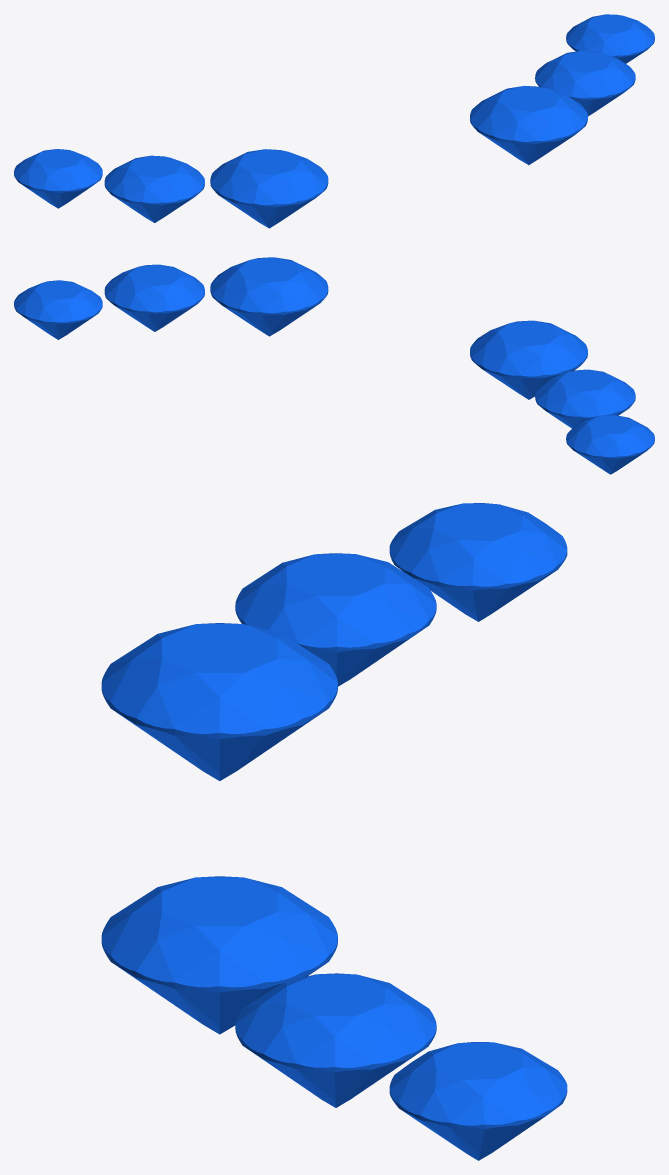
The model's file is mDenning_Sapphires_.glb.
3 views of the same model, one above another, from view 1: azimuth 30°, elevation 25°; view 2: azimuth 150°, elevation 25°; view 3: azimuth 270°, elevation 25° (orthographic). The views are drawn at different scales.
Visible parts, largest first — view 1: michael sapphires for 3d model, michael sapphires for 3d model.003, michael sapphires for 3d model.001, michael sapphires for 3d model.004, michael sapphires for 3d model.002, michael sapphires for 3d model.005; view 2: michael sapphires for 3d model.003, michael sapphires for 3d model, michael sapphires for 3d model.004, michael sapphires for 3d model.001, michael sapphires for 3d model.002, michael sapphires for 3d model.005; view 3: michael sapphires for 3d model, michael sapphires for 3d model.003, michael sapphires for 3d model.004, michael sapphires for 3d model.001, michael sapphires for 3d model.005, michael sapphires for 3d model.002.
Part boxes in pixels (box(x1,y1,x2,y2)): michael sapphires for 3d model: box(210, 149, 328, 228); michael sapphires for 3d model.003: box(470, 86, 587, 164); michael sapphires for 3d model.001: box(104, 155, 204, 222); michael sapphires for 3d model.004: box(535, 50, 635, 116); michael sapphires for 3d model.002: box(14, 149, 102, 208); michael sapphires for 3d model.005: box(566, 14, 654, 63); michael sapphires for 3d model.003: box(210, 257, 328, 336); michael sapphires for 3d model: box(470, 320, 587, 399); michael sapphires for 3d model.004: box(104, 264, 204, 331); michael sapphires for 3d model.001: box(535, 369, 635, 428); michael sapphires for 3d model.002: box(566, 415, 654, 474); michael sapphires for 3d model.005: box(14, 280, 102, 339); michael sapphires for 3d model: box(101, 623, 337, 780); michael sapphires for 3d model.003: box(101, 876, 337, 1034); michael sapphires for 3d model.004: box(235, 973, 436, 1107); michael sapphires for 3d model.001: box(235, 553, 436, 686); michael sapphires for 3d model.005: box(389, 1042, 567, 1160); michael sapphires for 3d model.002: box(389, 503, 567, 621).
Bounding box in the file's own units: 20.9 × 2.11 × 6.7.
